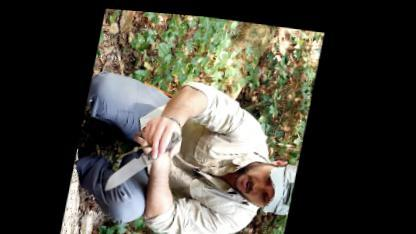knife: (104, 111, 182, 199)
